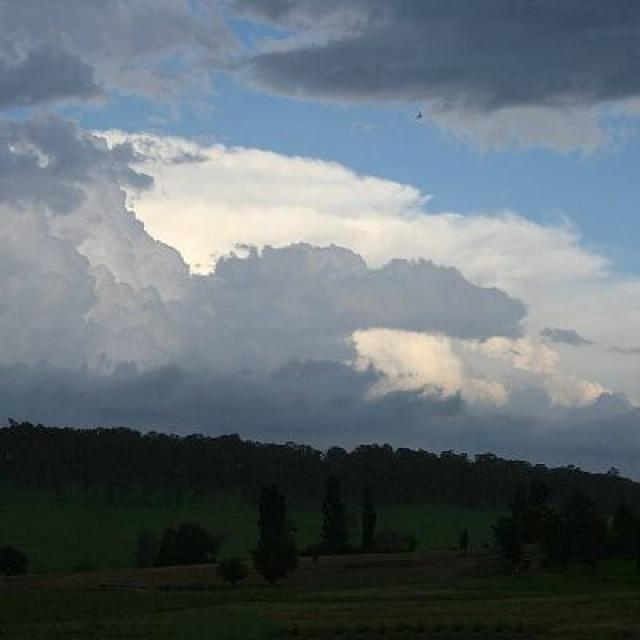St: (1, 64, 640, 422)
